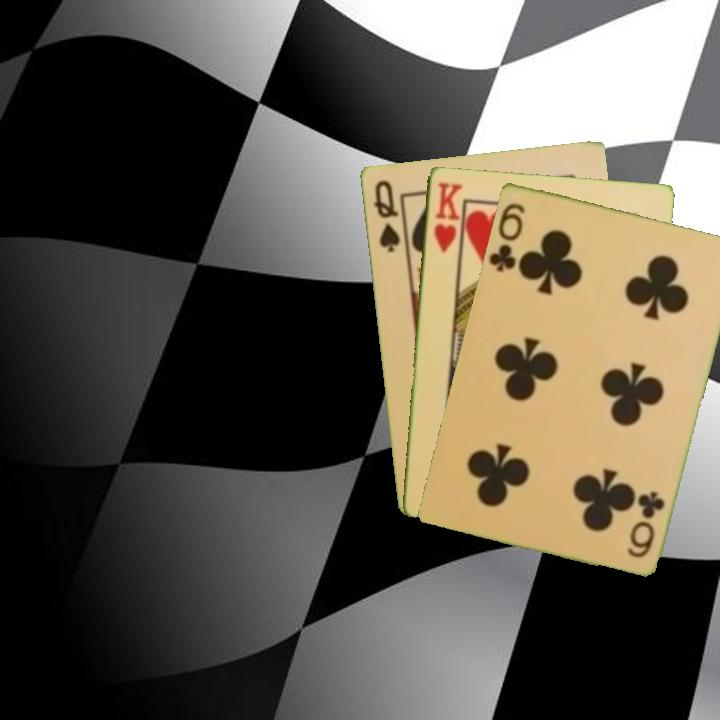6c: (485, 199, 528, 275), (623, 487, 667, 561)
Kh: (430, 178, 465, 255)
Qs: (369, 176, 403, 255)
